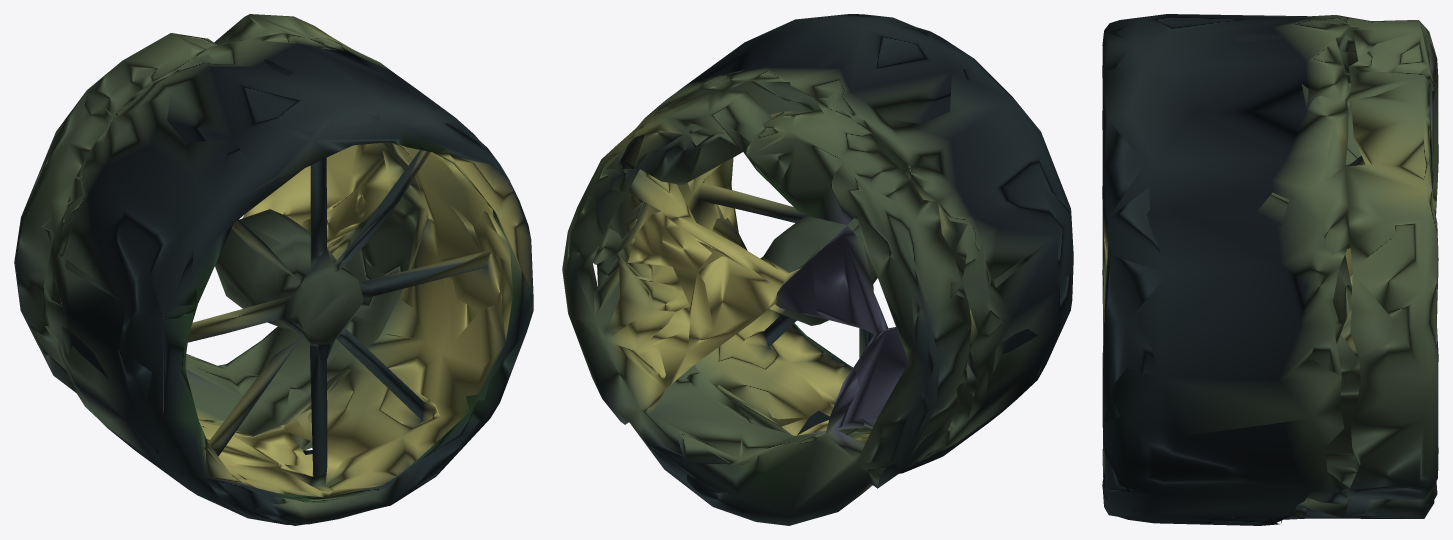
The model's file is gen3d-hamster-wheel-lod0.glb.
3 views of the same model, side by side, from view 1: azimuth 30°, elevation 25°; view 2: azimuth 150°, elevation 25°; view 3: azimuth 270°, elevation 25° (orthographic). The views are drawn at different scales.
Visible parts, largest first — view 1: part_0; view 2: part_0; view 3: part_0.
Part boxes in pixels (x1=…): part_0: x1=14, y1=14, x2=533, y2=525; part_0: x1=562, y1=14, x2=1073, y2=525; part_0: x1=1102, y1=14, x2=1438, y2=525.
Size of the model in its own units: 1.01 by 0.9987 by 0.653.
